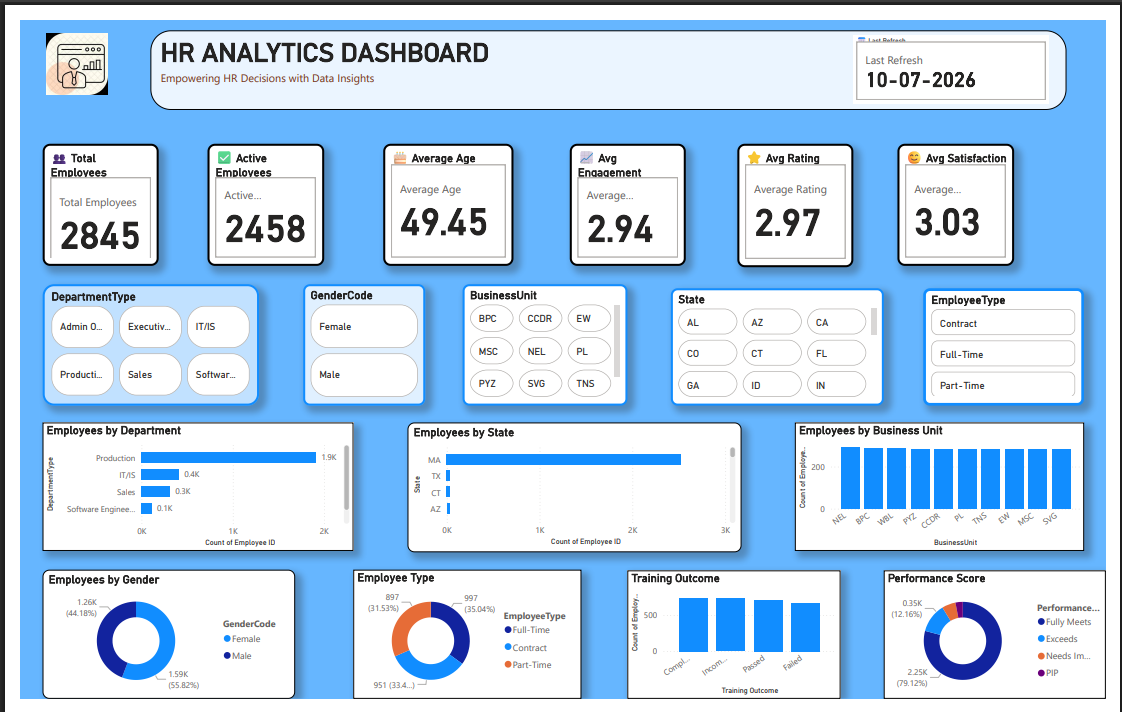

This screenshot's page, from the dashboard's own definition file:
{"tool":"powerbi","page":{"name":"Page 1","canvas":[1600,1000],"ordinal":0},"visuals":[{"type":"cardVisual","title":"👥 Total Employees","fields":{"Data":["Cleaned_HR_Data_Analysis.Total Employees"]},"box":[32.6,181.8,171.5,180.1],"z":0},{"type":"textbox","title":"HR ANALYTICS DASHBOARD","box":[192.1,15.4,1349.9,116.6],"z":1000},{"type":"cardVisual","title":"✅ Active Employees","fields":{"Data":["Cleaned_HR_Data_Analysis.Active Employees"]},"box":[276.2,181.8,171.5,180.1],"z":2000},{"type":"cardVisual","title":"🎂 Average Age","fields":{"Data":["Cleaned_HR_Data_Analysis.Average Age"]},"box":[535.2,181.8,192.1,180.1],"z":3000},{"type":"cardVisual","title":"📈 Avg Engagement","fields":{"Data":["Cleaned_HR_Data_Analysis.Average Engagement"]},"box":[809.6,181.8,171.5,180.1],"z":4000},{"type":"cardVisual","title":"⭐ Avg Rating","fields":{"Data":["Cleaned_HR_Data_Analysis.Average Rating"]},"box":[1056.6,181.8,171.5,181.8],"z":5000},{"type":"cardVisual","title":"😊 Avg Satisfaction","fields":{"Data":["Cleaned_HR_Data_Analysis.Average Satisfaction"]},"box":[1293.3,181.8,171.5,180.1],"z":6000},{"type":"clusteredBarChart","title":"Employees by Department","fields":{"Y":["CountNonNull(Cleaned_HR_Data_Analysis.Employee ID)"],"Category":["Cleaned_HR_Data_Analysis.DepartmentType"]},"box":[32.6,593.5,458,188.7],"z":7000},{"type":"donutChart","title":"Employees by Gender","fields":{"Y":["CountNonNull(Cleaned_HR_Data_Analysis.Employee ID)"],"Category":["Cleaned_HR_Data_Analysis.GenderCode"]},"box":[32.6,809.6,372.2,190.4],"z":8000},{"type":"clusteredColumnChart","title":"Employees by Business Unit","fields":{"Category":["Cleaned_HR_Data_Analysis.BusinessUnit"],"Y":["CountNonNull(Cleaned_HR_Data_Analysis.Employee ID)"]},"box":[1142.4,593.5,425.4,188.7],"z":9000},{"type":"clusteredBarChart","title":"Employees by State","fields":{"Category":["Cleaned_HR_Data_Analysis.State"],"Y":["CountNonNull(Cleaned_HR_Data_Analysis.Employee ID)"]},"box":[571.2,593.5,492.3,190.4],"z":10000},{"type":"donutChart","title":"Performance Score","fields":{"Category":["Cleaned_HR_Data_Analysis.Performance Score"],"Y":["CountNonNull(Cleaned_HR_Data_Analysis.Employee ID)"]},"box":[1272.7,811.3,327.6,188.7],"z":11000},{"type":"donutChart","title":"Employee Type","fields":{"Category":["Cleaned_HR_Data_Analysis.EmployeeType"],"Y":["CountNonNull(Cleaned_HR_Data_Analysis.Employee ID)"]},"box":[490.6,809.6,336.2,190.4],"z":12000},{"type":"columnChart","title":"Training Outcome","fields":{"Category":["Cleaned_HR_Data_Analysis.Training Outcome"],"Y":["CountNonNull(Cleaned_HR_Data_Analysis.Employee ID)"]},"box":[895.4,811.3,313.9,188.7],"z":13000},{"type":"advancedSlicerVisual","fields":{"Values":["Cleaned_HR_Data_Analysis.DepartmentType"]},"box":[32.6,389.4,319,178.4],"z":14000},{"type":"advancedSlicerVisual","fields":{"Values":["Cleaned_HR_Data_Analysis.GenderCode"]},"box":[416.8,389.4,180.1,178.4],"z":15000},{"type":"advancedSlicerVisual","fields":{"Values":["Cleaned_HR_Data_Analysis.BusinessUnit"]},"box":[651.8,389.4,243.6,178.4],"z":16000},{"type":"advancedSlicerVisual","fields":{"Values":["Cleaned_HR_Data_Analysis.State"]},"box":[958.8,394.5,313.9,173.2],"z":17000},{"type":"advancedSlicerVisual","fields":{"Values":["Cleaned_HR_Data_Analysis.EmployeeType"]},"box":[1331.1,394.5,236.7,173.2],"z":18000},{"type":"cardVisual","title":"📅 Last Refresh","fields":{"Data":["Cleaned_HR_Data_Analysis.Last Refresh"]},"box":[1228.1,22.3,288.2,101.2],"z":19000},{"type":"image","box":[32.6,15.4,100,100],"z":20000}]}

Visuals, with their boxes in screenshot pixels (x1, y1, x2, y2), scaled from the page's 1600x1000 canvas onto the 1122x712 screenshot:
"👥 Total Employees" cardVisual: 23 129 143 258
"HR ANALYTICS DASHBOARD" textbox: 135 11 1081 94
"✅ Active Employees" cardVisual: 194 129 314 258
"🎂 Average Age" cardVisual: 375 129 510 258
"📈 Avg Engagement" cardVisual: 568 129 688 258
"⭐ Avg Rating" cardVisual: 741 129 861 259
"😊 Avg Satisfaction" cardVisual: 907 129 1027 258
"Employees by Department" clusteredBarChart: 23 423 344 557
"Employees by Gender" donutChart: 23 576 284 711
"Employees by Business Unit" clusteredColumnChart: 801 423 1099 557
"Employees by State" clusteredBarChart: 401 423 746 558
"Performance Score" donutChart: 892 578 1121 711
"Employee Type" donutChart: 344 576 580 711
"Training Outcome" columnChart: 628 578 848 711
advancedSlicerVisual - Cleaned_HR_Data_Analysis.DepartmentType: 23 277 247 404
advancedSlicerVisual - Cleaned_HR_Data_Analysis.GenderCode: 292 277 419 404
advancedSlicerVisual - Cleaned_HR_Data_Analysis.BusinessUnit: 457 277 628 404
advancedSlicerVisual - Cleaned_HR_Data_Analysis.State: 672 281 892 404
advancedSlicerVisual - Cleaned_HR_Data_Analysis.EmployeeType: 933 281 1099 404
"📅 Last Refresh" cardVisual: 861 16 1063 88
image: 23 11 93 82
